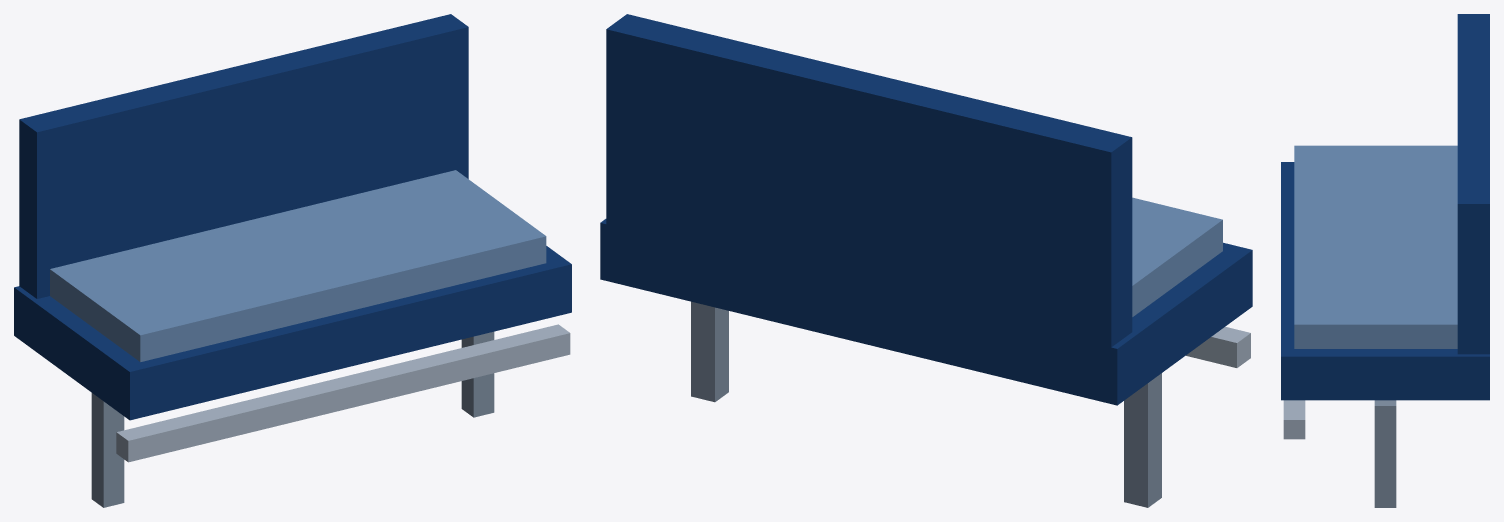
File: train-seat.glb
3 views of the same model, side by side, from view 1: azimuth 30°, elevation 25°; view 2: azimuth 150°, elevation 25°; view 3: azimuth 270°, elevation 25° (orthographic). The views are drawn at different scales.
Parts seen in each view (by area): view 1: berth-back, berth-mattress, berth-cushion, berth-front-rail, berth-support (×2); view 2: berth-back, berth-cushion, berth-support (×2), berth-mattress, berth-front-rail; view 3: berth-mattress, berth-cushion, berth-back, berth-support, berth-front-rail.
Part boxes in pixels (x1,y1,x2,y2): berth-back: (19,14,468,298); berth-mattress: (50,170,546,361); berth-cushion: (14,246,571,420); berth-front-rail: (116,324,570,462); berth-support (×2): (91,331,494,507); berth-back: (606,14,1132,378); berth-cushion: (600,219,1252,405); berth-support (×2): (691,301,1161,507); berth-mattress: (1132,197,1222,316); berth-front-rail: (1186,326,1250,367); berth-mattress: (1294,145,1457,348); berth-cushion: (1281,162,1489,400); berth-back: (1457,14,1489,354); berth-support: (1374,400,1396,507); berth-front-rail: (1283,400,1305,439).
Size of the model in its own units: 1.72 by 1.29 by 0.78.
